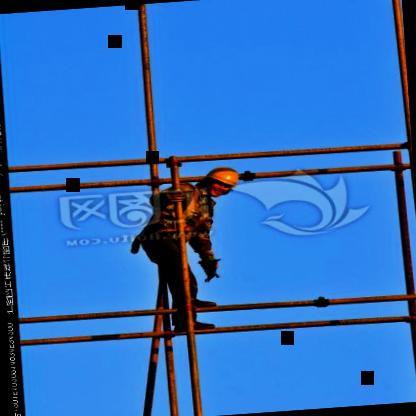helmet: (198, 164, 244, 200)
